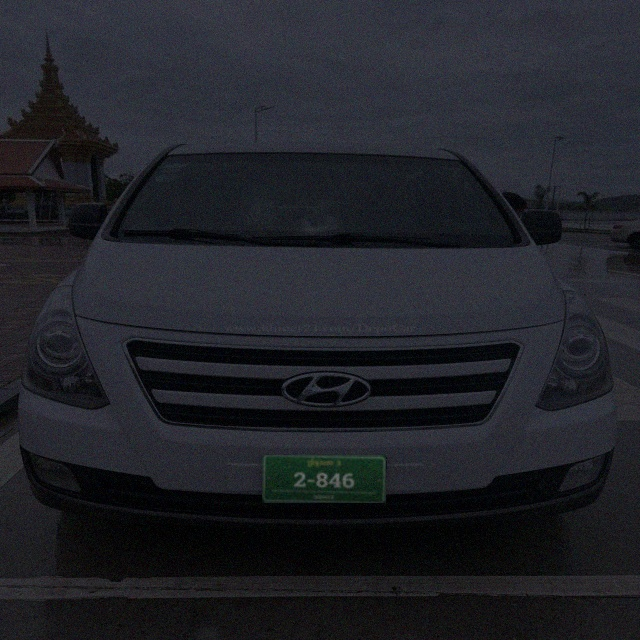Plate Number: (262, 455, 387, 503)
